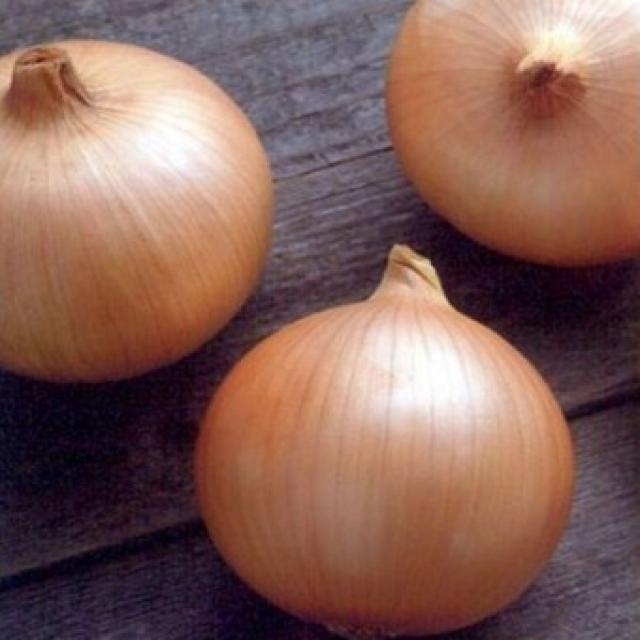onion: (194, 245, 577, 640), (0, 39, 275, 386), (384, 0, 640, 270)
